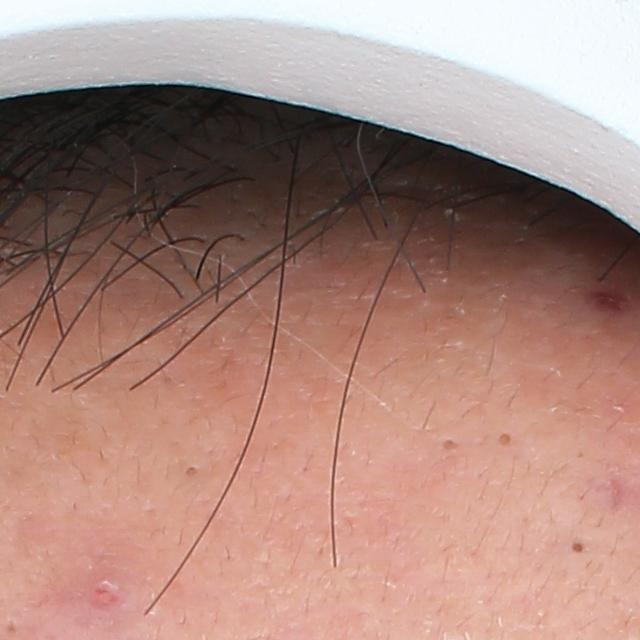comedo: (492, 429, 515, 449), (179, 461, 204, 479), (439, 436, 462, 454), (1, 616, 20, 637), (569, 539, 587, 556)
papule: (71, 569, 144, 621)
